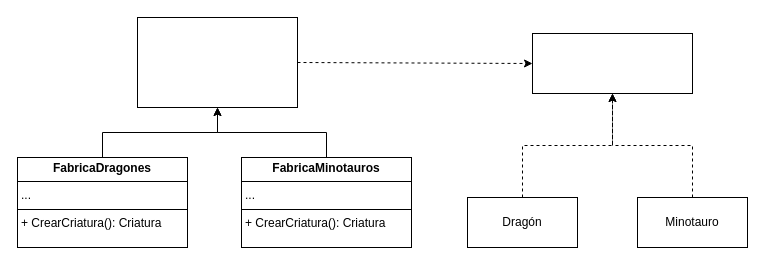
The diagram is 765 pixels wide and 265 high, and some of its shapes have lost their labels. Each missing label, with the centre of its shape:
"Criatura + atacar()" goes at [612,63].
"Fabrica Criaturas + field: Type + CrearCriatura(): Criatura" goes at [217,62].
